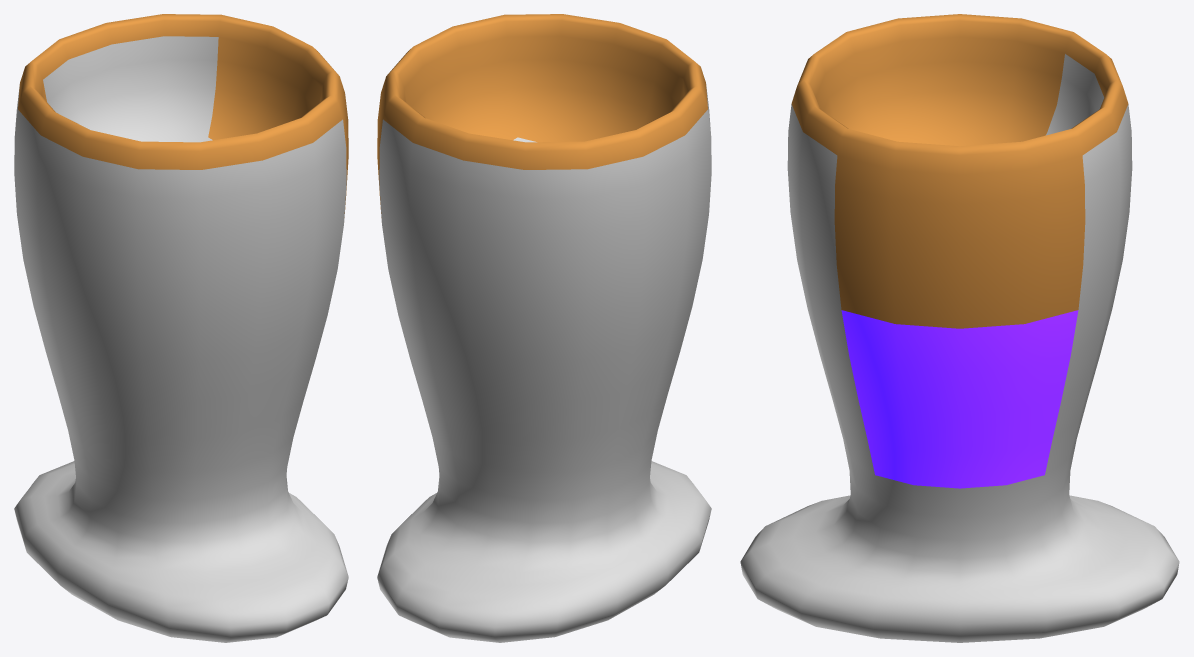
Rendered from trophy.gltf.
The picture shows the model from 3 angles, left to right: view 1: azimuth 30°, elevation 25°; view 2: azimuth 150°, elevation 25°; view 3: azimuth 270°, elevation 25°; orthographic projection. The views are drawn at different scales.
Parts seen in each view (by area): view 1: Cube; view 2: Cube; view 3: Cube.
Part boxes in pixels (x1,y1,x2,y2): Cube: [14, 14, 348, 642]; Cube: [377, 14, 711, 642]; Cube: [740, 14, 1179, 642].
Bounding box in the file's own units: 1.38 × 2.32 × 1.75.
